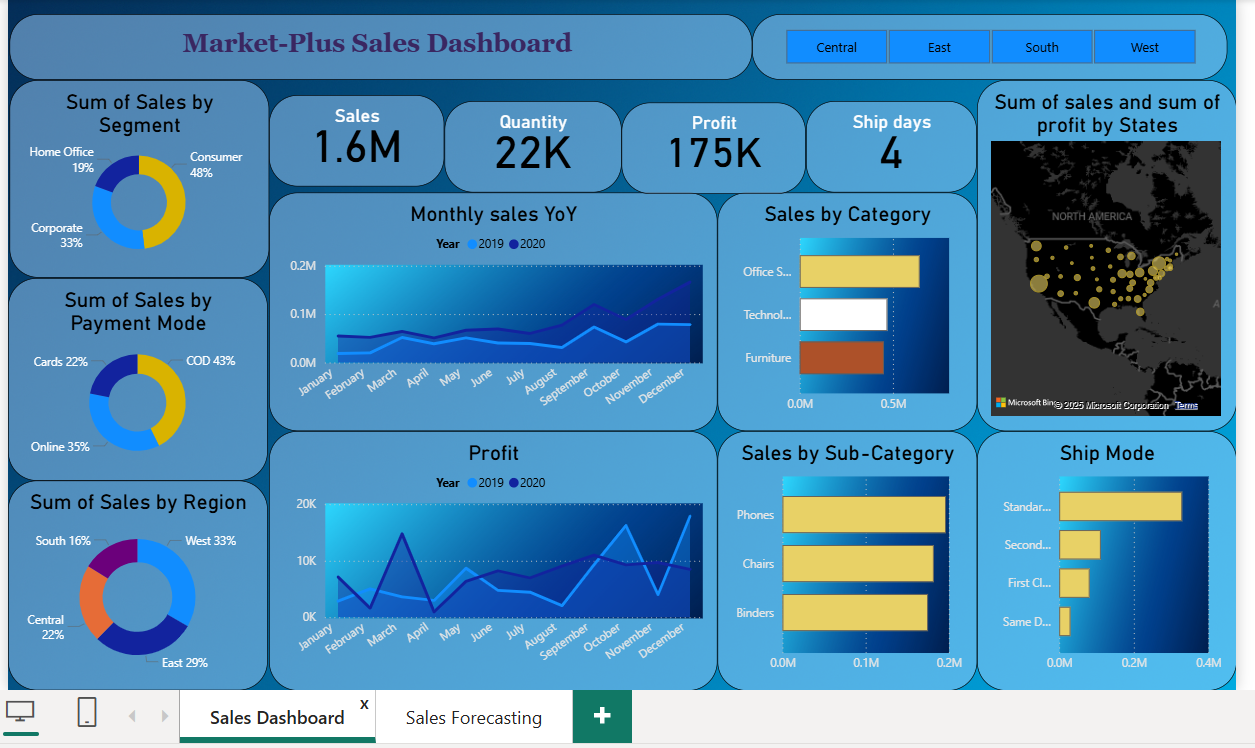

Layout of this report page (visuals, bound fields, positions):
{"tool":"powerbi","page":{"name":"Sales Dashboard","canvas":[1280,720],"ordinal":0},"visuals":[{"type":"clusteredBarChart","title":"Sales by Category","fields":{"Category":["SuperStore_Sales_Dataset.Category"],"Y":["Sum(SuperStore_Sales_Dataset.Sales)"]},"box":[739.3,201.6,270.4,248.5],"z":0},{"type":"clusteredBarChart","title":"Sales by Sub-Category","fields":{"Category":["SuperStore_Sales_Dataset.Sub-Category"],"Y":["Sum(SuperStore_Sales_Dataset.Sales)"]},"box":[739.3,450.1,270.4,270.4],"z":1000},{"type":"clusteredBarChart","title":"Ship Mode","fields":{"Category":["SuperStore_Sales_Dataset.Ship Mode"],"Y":["Sum(SuperStore_Sales_Dataset.Sales)"]},"box":[1009.7,450.1,270.4,270.4],"z":2000},{"type":"areaChart","title":"Monthly sales YoY","fields":{"Y":["Sum(SuperStore_Sales_Dataset.Sales)"],"Series":["SuperStore_Sales_Dataset.Order Date.Variation.Date Hierarchy.Year"],"Category":["SuperStore_Sales_Dataset.Order Date.Variation.Date Hierarchy.Month"]},"box":[272,201.6,467.3,248.5],"z":3000},{"type":"areaChart","title":"Profit","fields":{"Series":["SuperStore_Sales_Dataset.Order Date.Variation.Date Hierarchy.Year"],"Category":["SuperStore_Sales_Dataset.Order Date.Variation.Date Hierarchy.Month"],"Y":["Sum(SuperStore_Sales_Dataset.Profit)"]},"box":[272,450.1,467.3,270.4],"z":4000},{"type":"map","title":"Sum of sales and sum of profit by States","fields":{"Category":["SuperStore_Sales_Dataset.State"],"Size":["Sum(SuperStore_Sales_Dataset.Sales)"]},"box":[1009.7,84.4,270.4,365.7],"z":5000},{"type":"donutChart","fields":{"Category":["SuperStore_Sales_Dataset.Segment"],"Y":["Sum(SuperStore_Sales_Dataset.Sales)"]},"box":[1.6,84.4,270.4,206.3],"z":6000},{"type":"donutChart","fields":{"Y":["Sum(SuperStore_Sales_Dataset.Sales)"],"Category":["SuperStore_Sales_Dataset.Payment Mode"]},"box":[0,290.7,270.4,211],"z":7000},{"type":"slicer","fields":{"Values":["SuperStore_Sales_Dataset.Region"]},"box":[775.2,15.6,495.5,68.8],"z":8000},{"type":"textbox","box":[1.6,15.6,773.7,68.8],"z":9000},{"type":"card","title":"Sales","fields":{"Values":["Sum(SuperStore_Sales_Dataset.Sales)"]},"box":[272,100,182.9,95.3],"z":10000},{"type":"card","title":"Quantity","fields":{"Values":["Sum(SuperStore_Sales_Dataset.Quantity)"]},"box":[454.8,106.3,184.4,95.3],"z":11000},{"type":"card","title":"Profit","fields":{"Values":["Sum(SuperStore_Sales_Dataset.Profit)"]},"box":[639.3,107.8,192.2,95.3],"z":12000},{"type":"card","title":"Ship days","fields":{"Values":["Avg(SuperStore_Sales_Dataset.Average delivery)"]},"box":[831.5,106.3,178.2,95.3],"z":13000},{"type":"donutChart","fields":{"Y":["Sum(SuperStore_Sales_Dataset.Sales)"],"Category":["SuperStore_Sales_Dataset.Region"]},"box":[0,501.7,270.4,218.8],"z":14000}]}

Visuals, with their boxes in screenshot pixels (x1, y1, x2, y2):
"Sales by Category" clusteredBarChart: crop(718, 188, 980, 429)
"Sales by Sub-Category" clusteredBarChart: crop(718, 429, 980, 690)
"Ship Mode" clusteredBarChart: crop(980, 429, 1241, 690)
"Monthly sales YoY" areaChart: crop(266, 188, 718, 429)
"Profit" areaChart: crop(266, 429, 718, 690)
"Sum of sales and sum of profit by States" map: crop(980, 75, 1241, 429)
donutChart - SuperStore_Sales_Dataset.Segment x Sum(SuperStore_Sales_Dataset.Sales): crop(5, 75, 266, 275)
donutChart - Sum(SuperStore_Sales_Dataset.Sales) x SuperStore_Sales_Dataset.Payment Mode: crop(3, 275, 265, 479)
slicer - SuperStore_Sales_Dataset.Region: crop(753, 9, 1232, 75)
textbox: crop(5, 9, 753, 75)
"Sales" card: crop(266, 90, 443, 182)
"Quantity" card: crop(443, 96, 621, 188)
"Profit" card: crop(621, 98, 807, 190)
"Ship days" card: crop(807, 96, 980, 188)
donutChart - Sum(SuperStore_Sales_Dataset.Sales) x SuperStore_Sales_Dataset.Region: crop(3, 479, 265, 690)
